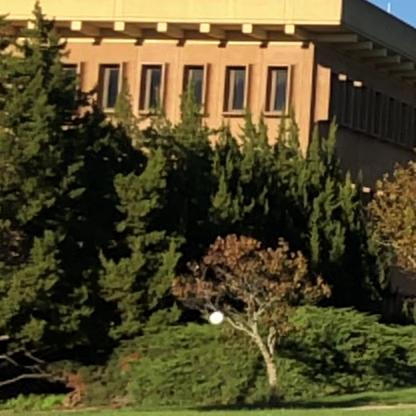golfball: (206, 306, 223, 323)
